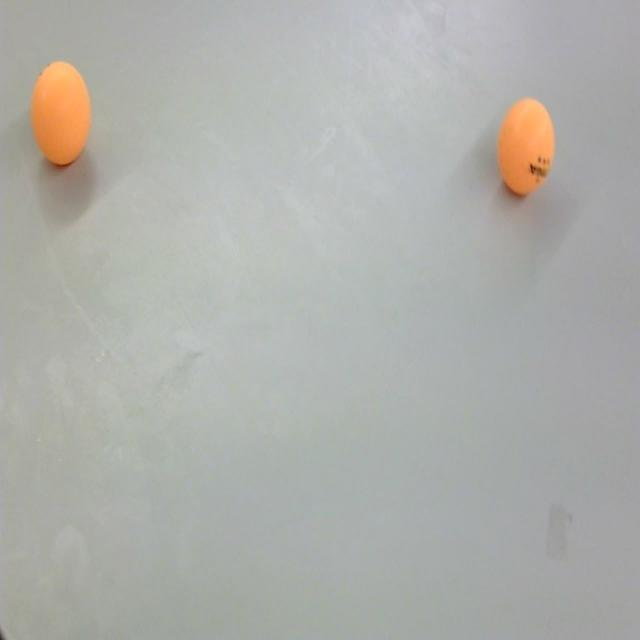ball: (29, 57, 94, 169), (496, 95, 557, 200)
